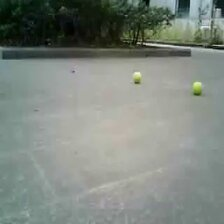tennis: (132, 71, 141, 82), (192, 81, 201, 92)
